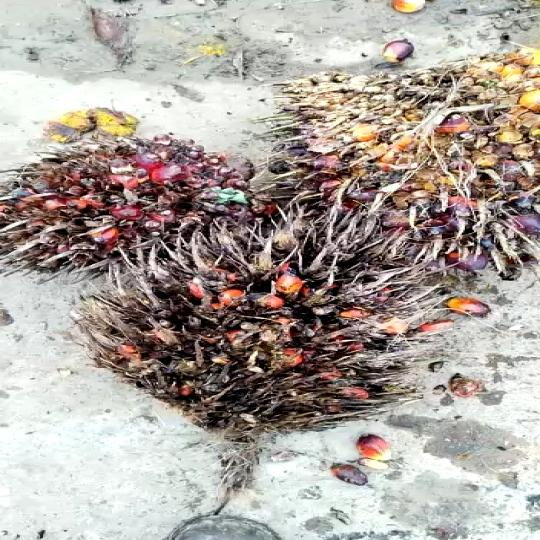terlalu masak: (73, 222, 470, 442), (264, 53, 540, 272), (0, 129, 278, 282)
